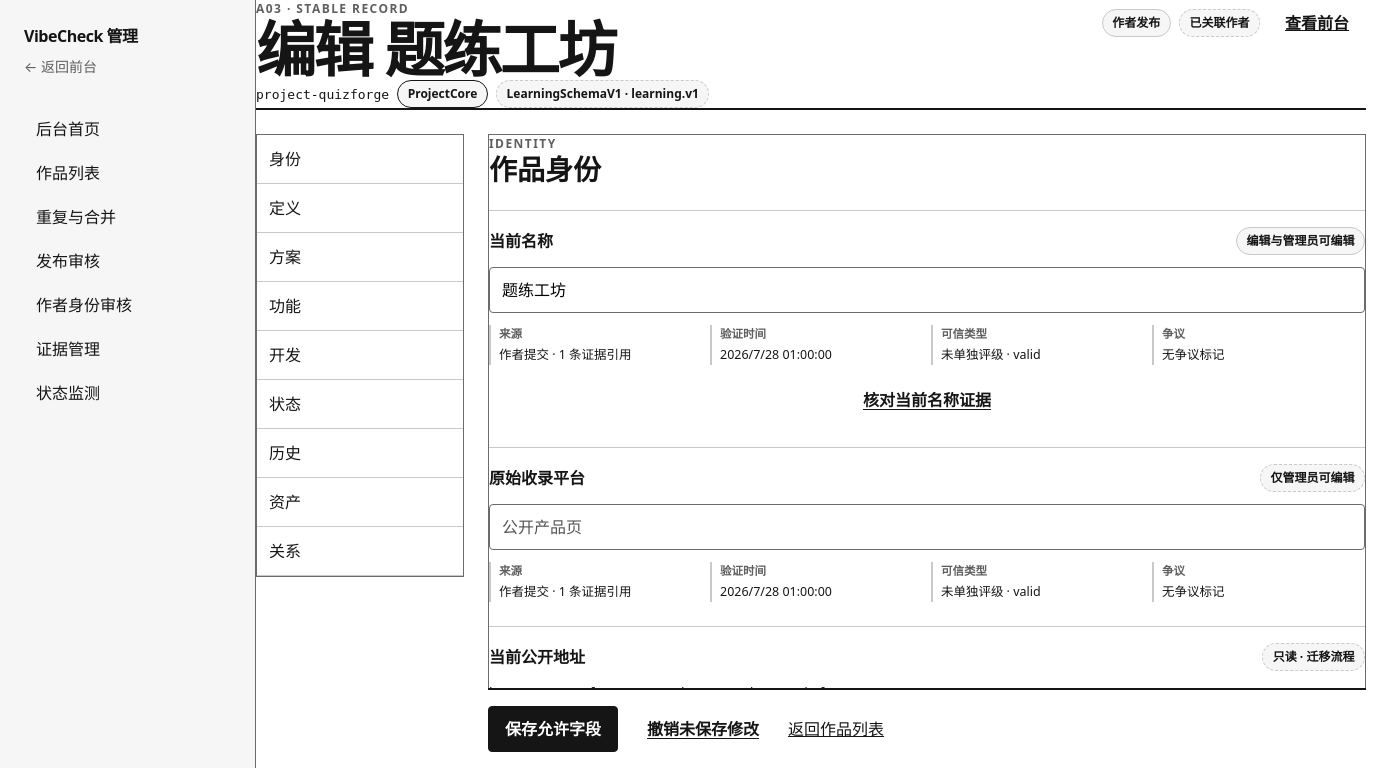
Test case: T48 admin project editor › shows append-only versions, events and time-filterable logs without a delete control
Replace the text in the field named "当前名称" with "题练工坊 1.2". click: {"x": 927, "y": 290}
box: [489,267,1365,313]
(page scrolled)
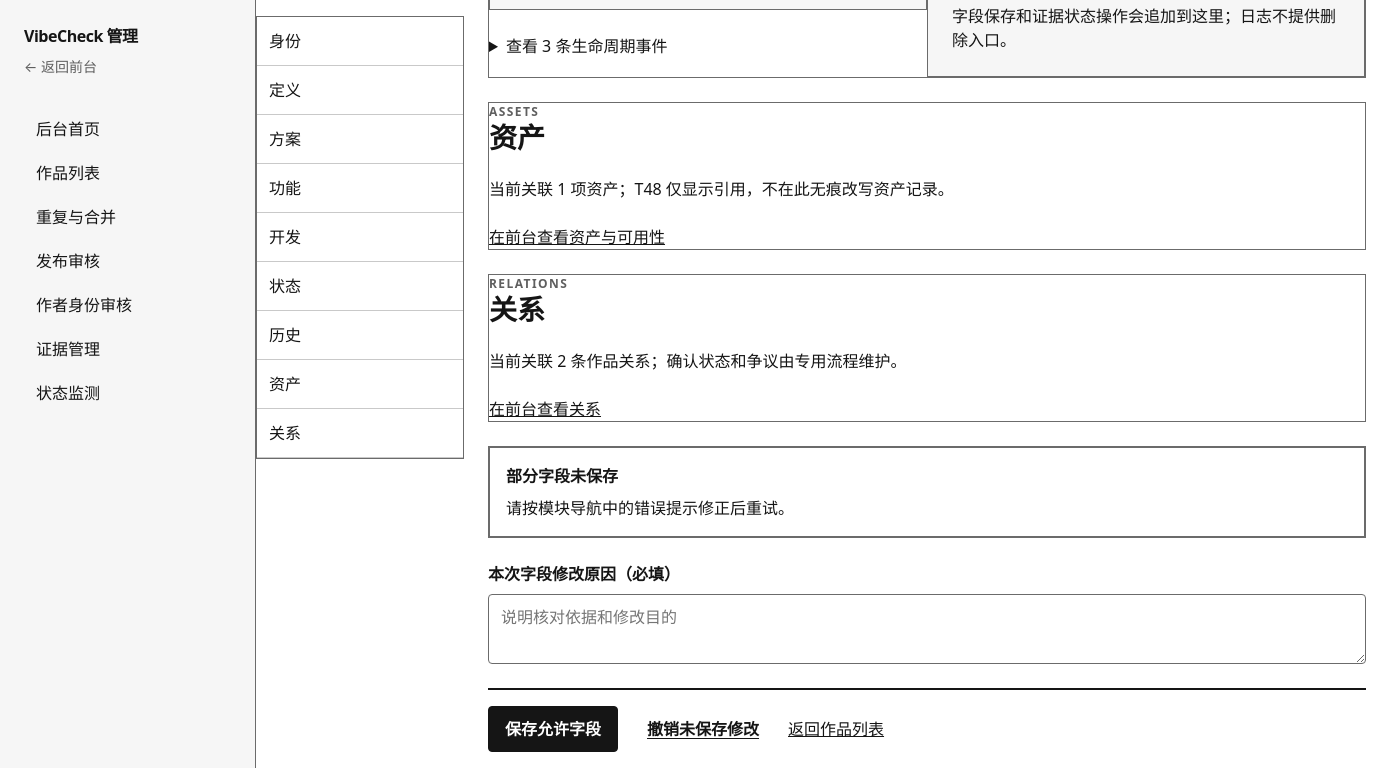
Type "版本名称核对。" into the text box labelled "本次字段修改原因（必填）". click: {"x": 927, "y": 629}
box: [488,594,1366,664]
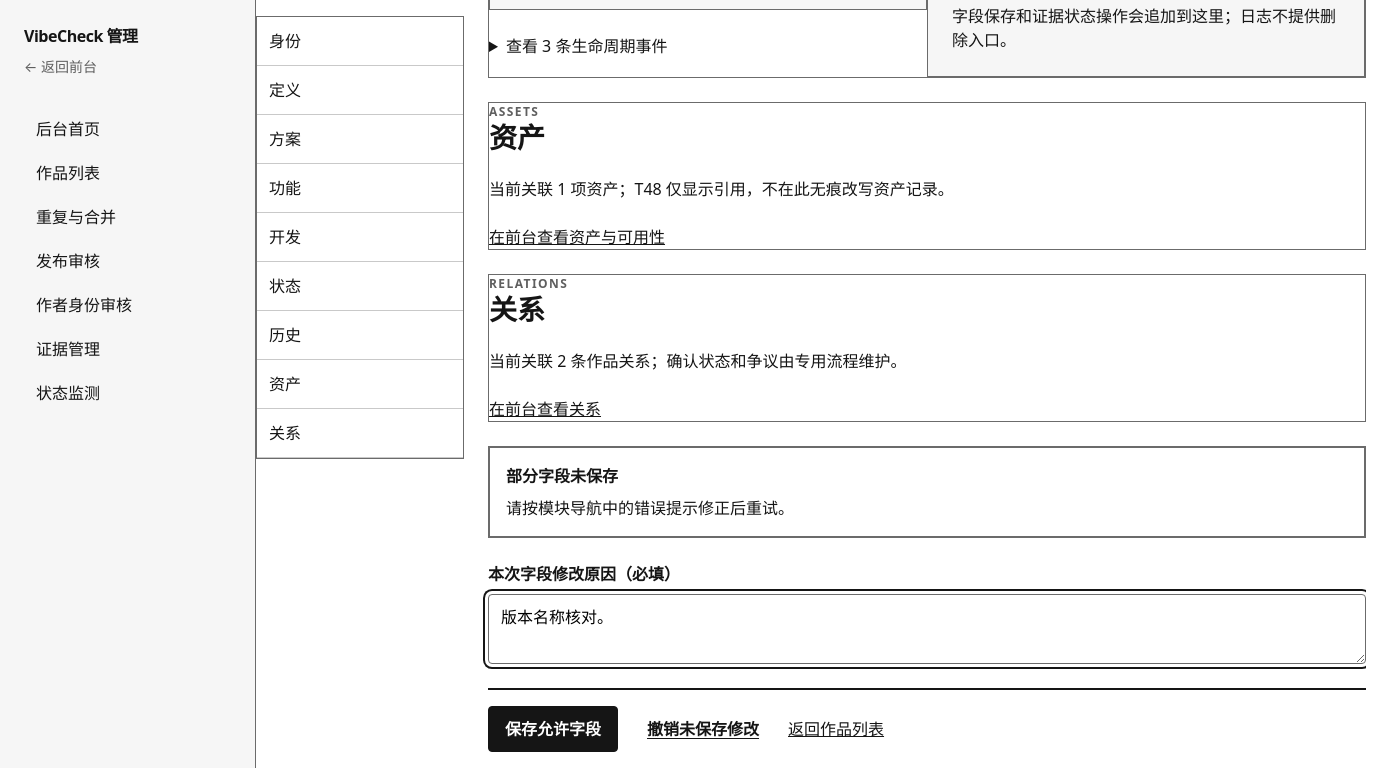
Click the button "保存允许字段". click: {"x": 553, "y": 729}
box: [488,706,618,752]
(page scrolled)
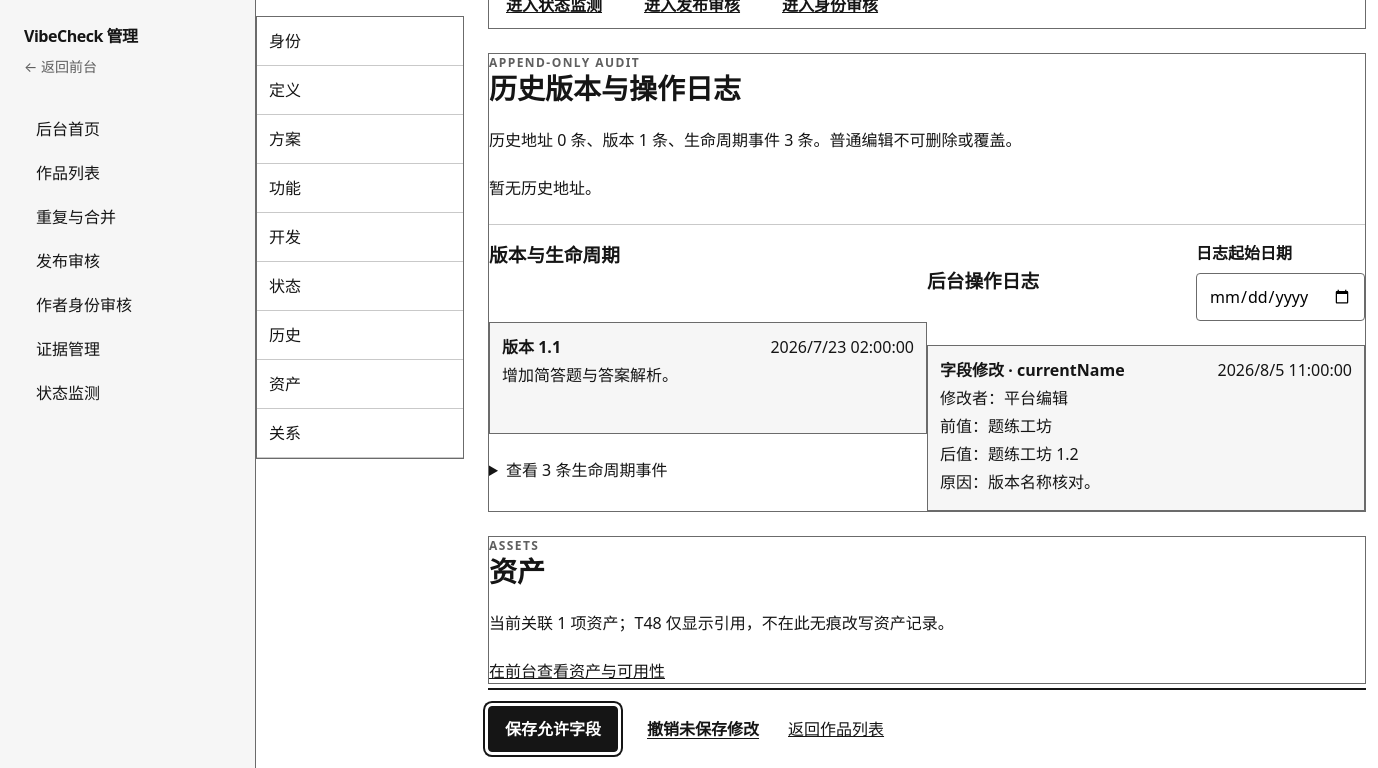
Expected: the text "版本 1.1" is shown, [502,335,561,359]
Expected: the text "字段修改 · currentName" is shown, [940,358,1125,382]
Expected: the text "原因：版本名称核对。" is shown, [940,471,1100,493]
Type "2026-08-06" into the date field labelled "日志起始日期". click: {"x": 1280, "y": 297}
box: [1196,273,1365,321]
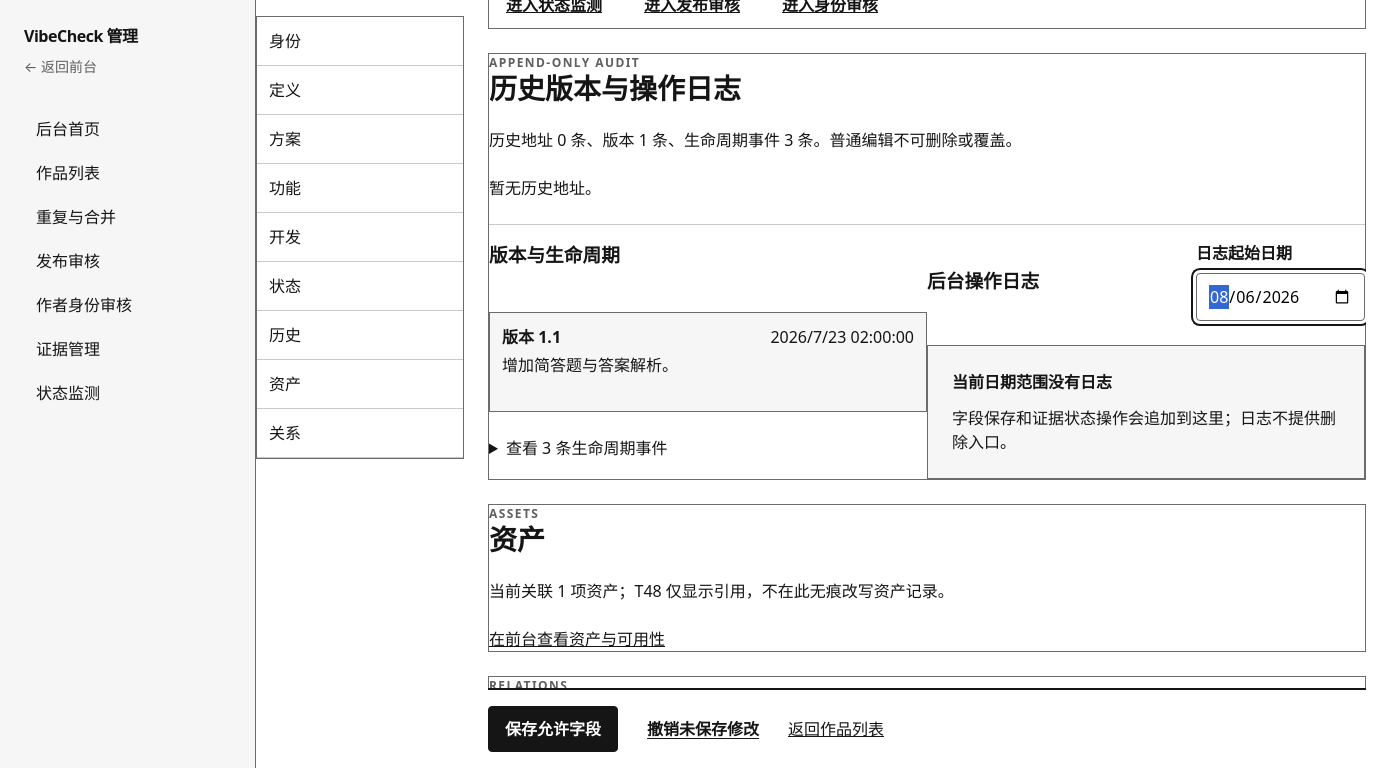
Expected: the text "当前日期范围没有日志" is shown, [952,370,1112,394]
